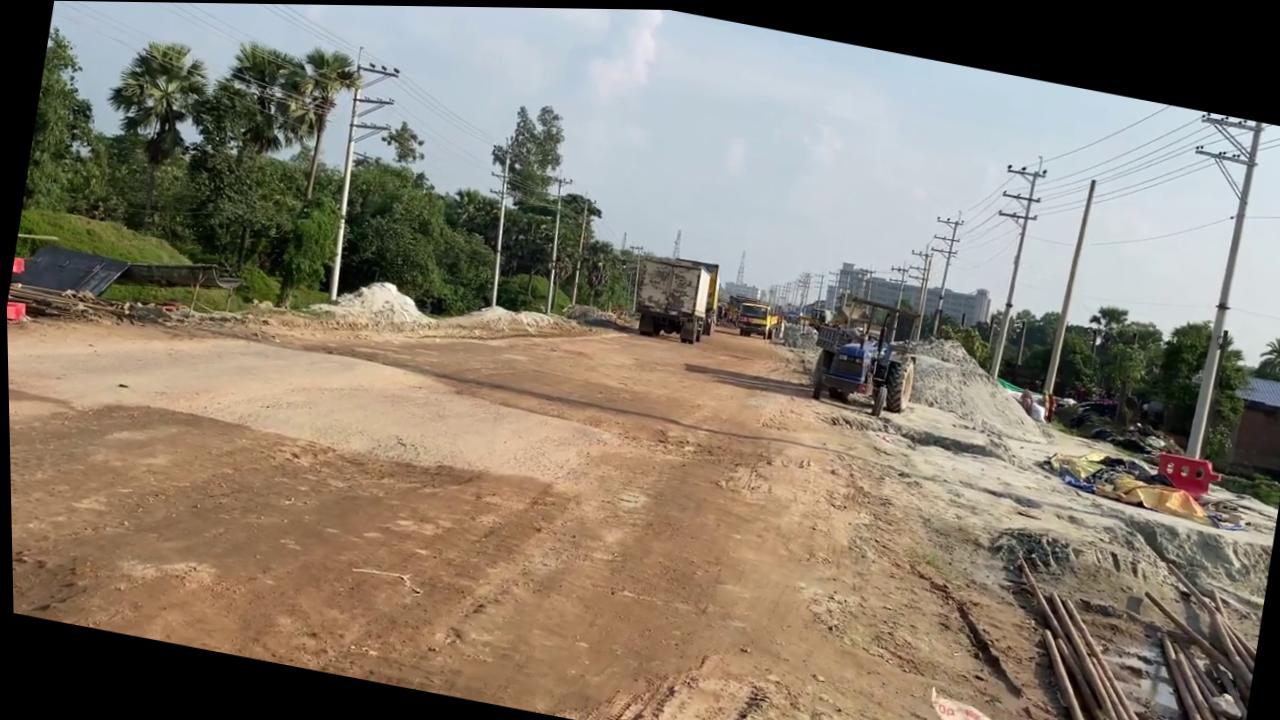Construction-barrier: (1149, 445, 1221, 499)
Obstacle: (966, 527, 1265, 720)
Pole: (1175, 114, 1269, 459), (313, 44, 379, 301), (1034, 170, 1099, 395)
Traffic-sign: (83, 28, 218, 239)
Tree: (800, 292, 924, 420), (623, 246, 724, 346), (661, 252, 724, 334), (731, 296, 774, 338)
